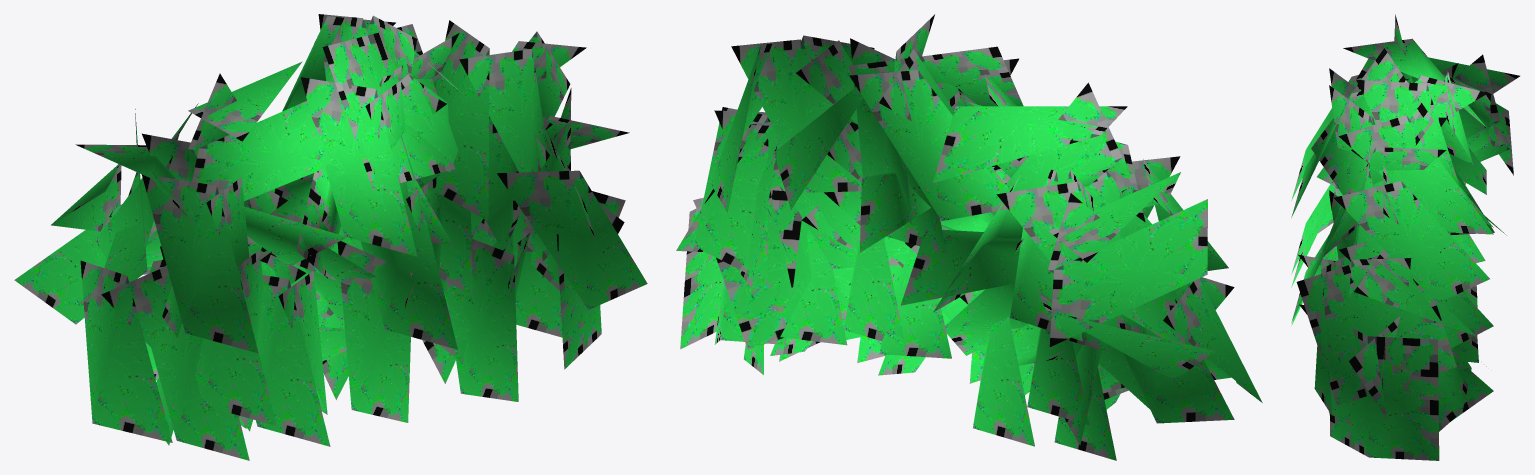
File: bush-round.lod1.glb
3 renders of one model, left to right at view 1: azimuth 30°, elevation 25°; view 2: azimuth 150°, elevation 25°; view 3: azimuth 270°, elevation 25°, orthographic. The views are drawn at different scales.
Parts seen in each view (by area): view 1: Object_6; view 2: Object_6; view 3: Object_6.
Part boxes in pixels (x1,y1,x2,y2): Object_6: [14, 14, 647, 460]; Object_6: [676, 14, 1262, 460]; Object_6: [1291, 14, 1519, 460].
Size of the model in its own units: 2.03 by 1.29 by 0.8368.
1 material, 1 textured.
